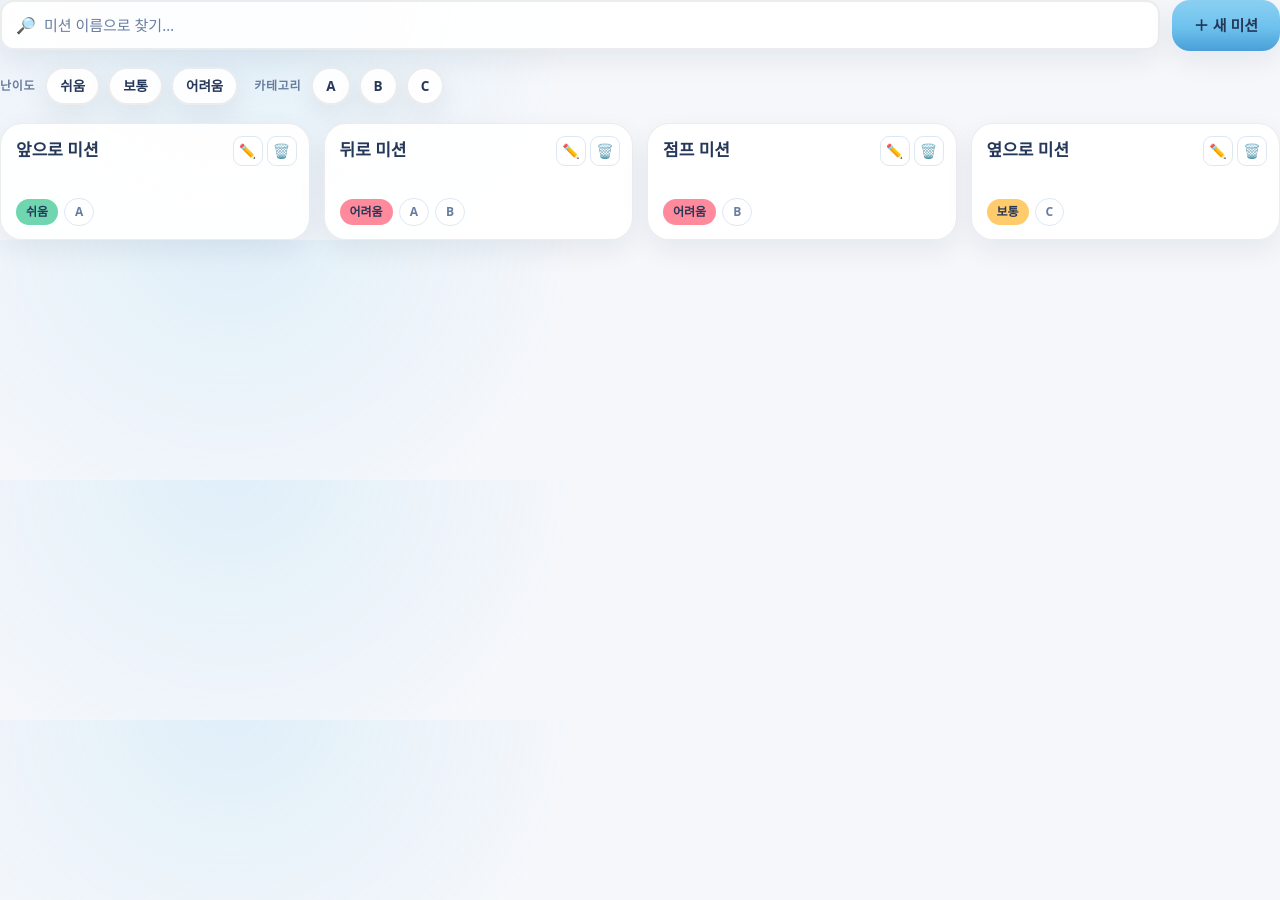
Test: MissionTab (search + difficulty/category filter + delete) › deletes a mission after a confirm dialog that names it
Click the button named "앞으로 미션 삭제". click: click(282, 151)
box: [266, 136, 296, 166]
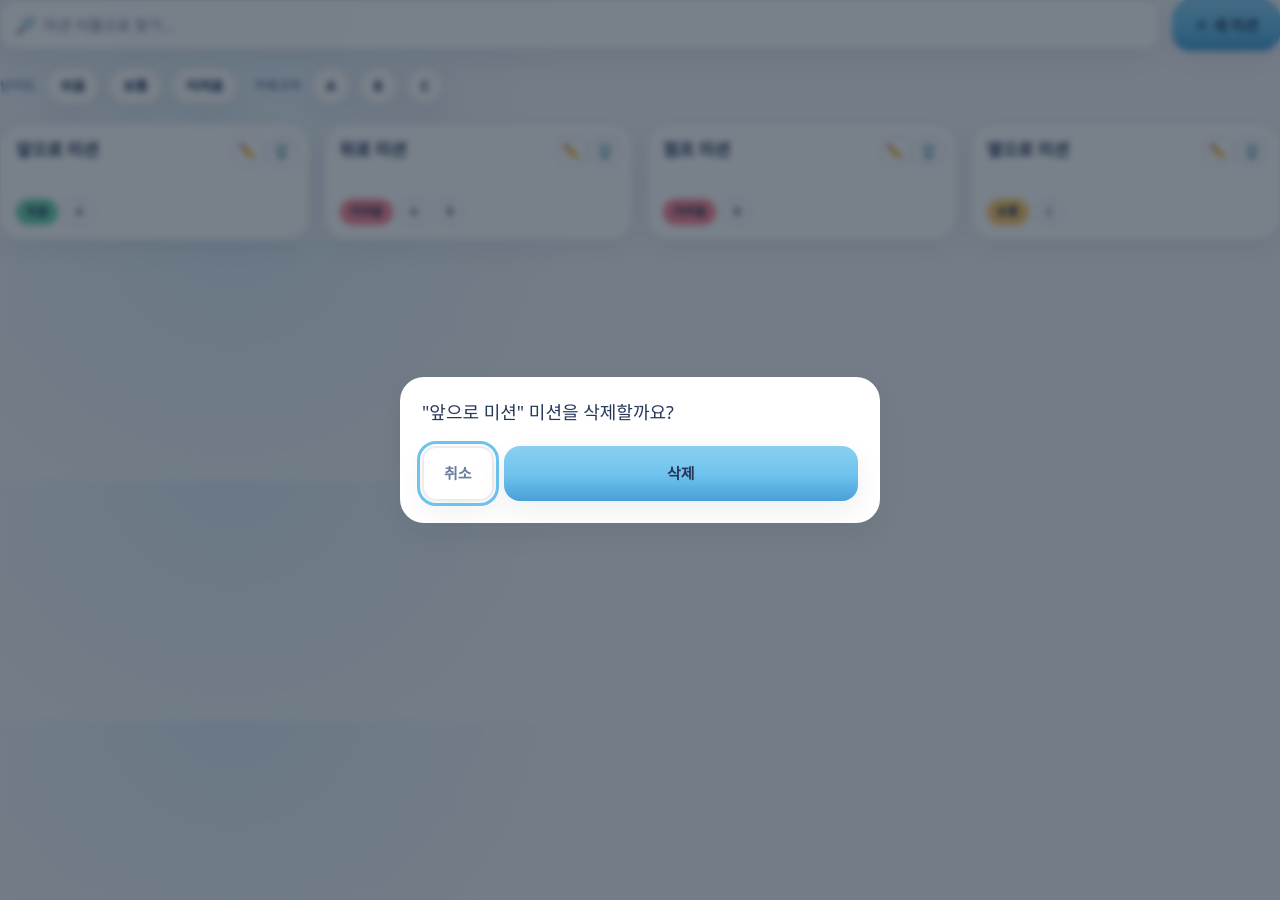
Expected: the heading "\"앞으로 미션\" 미션을 삭제할까요?" is shown, [422, 400, 674, 424]
Click the button "삭제". click: click(681, 474)
box: [504, 446, 858, 501]
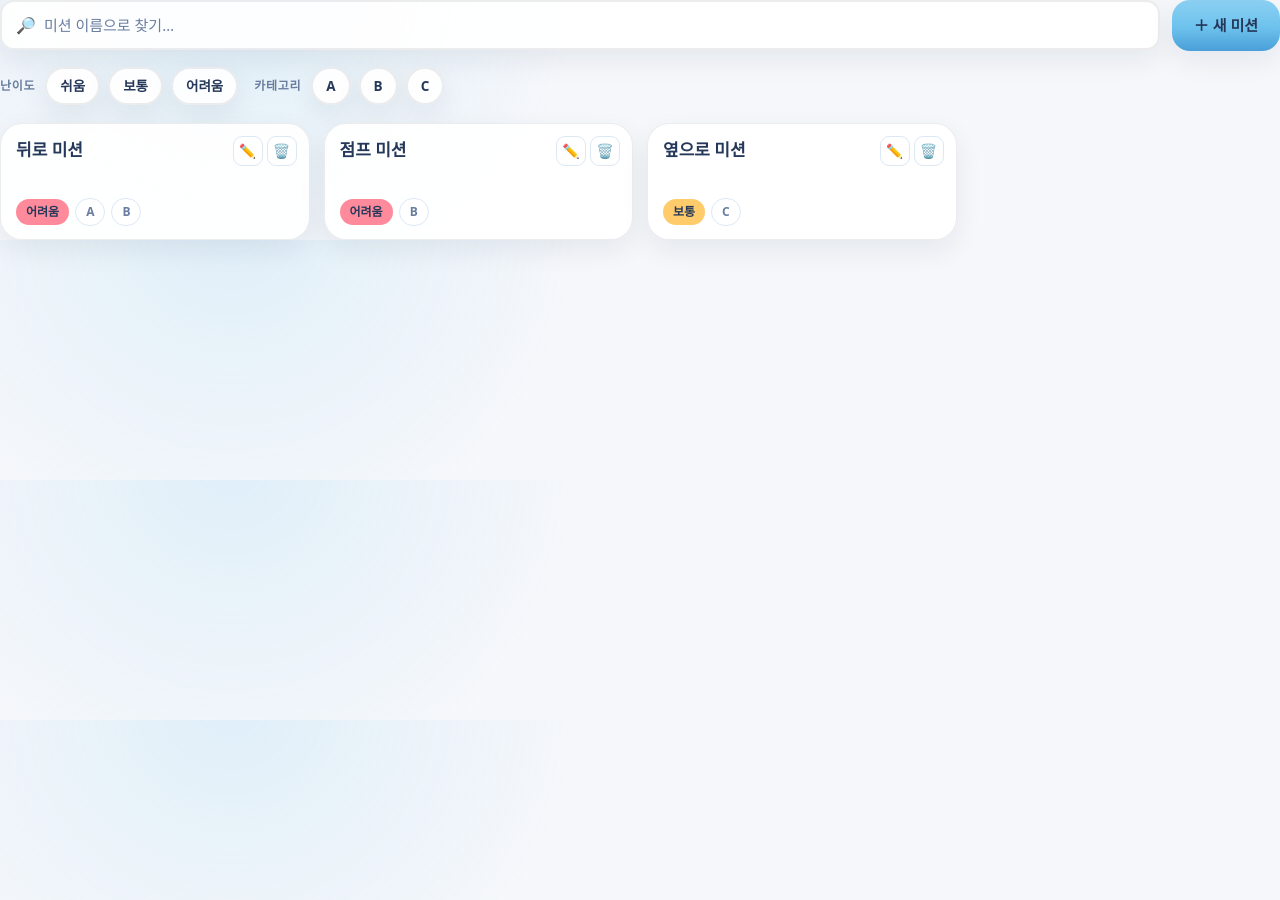
Expected: the text "앞으로 미션" is gone
